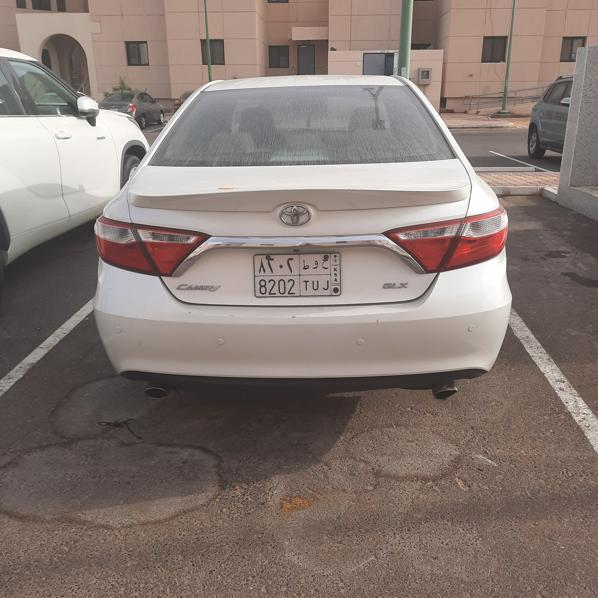numberplate: (253, 252, 342, 297)
